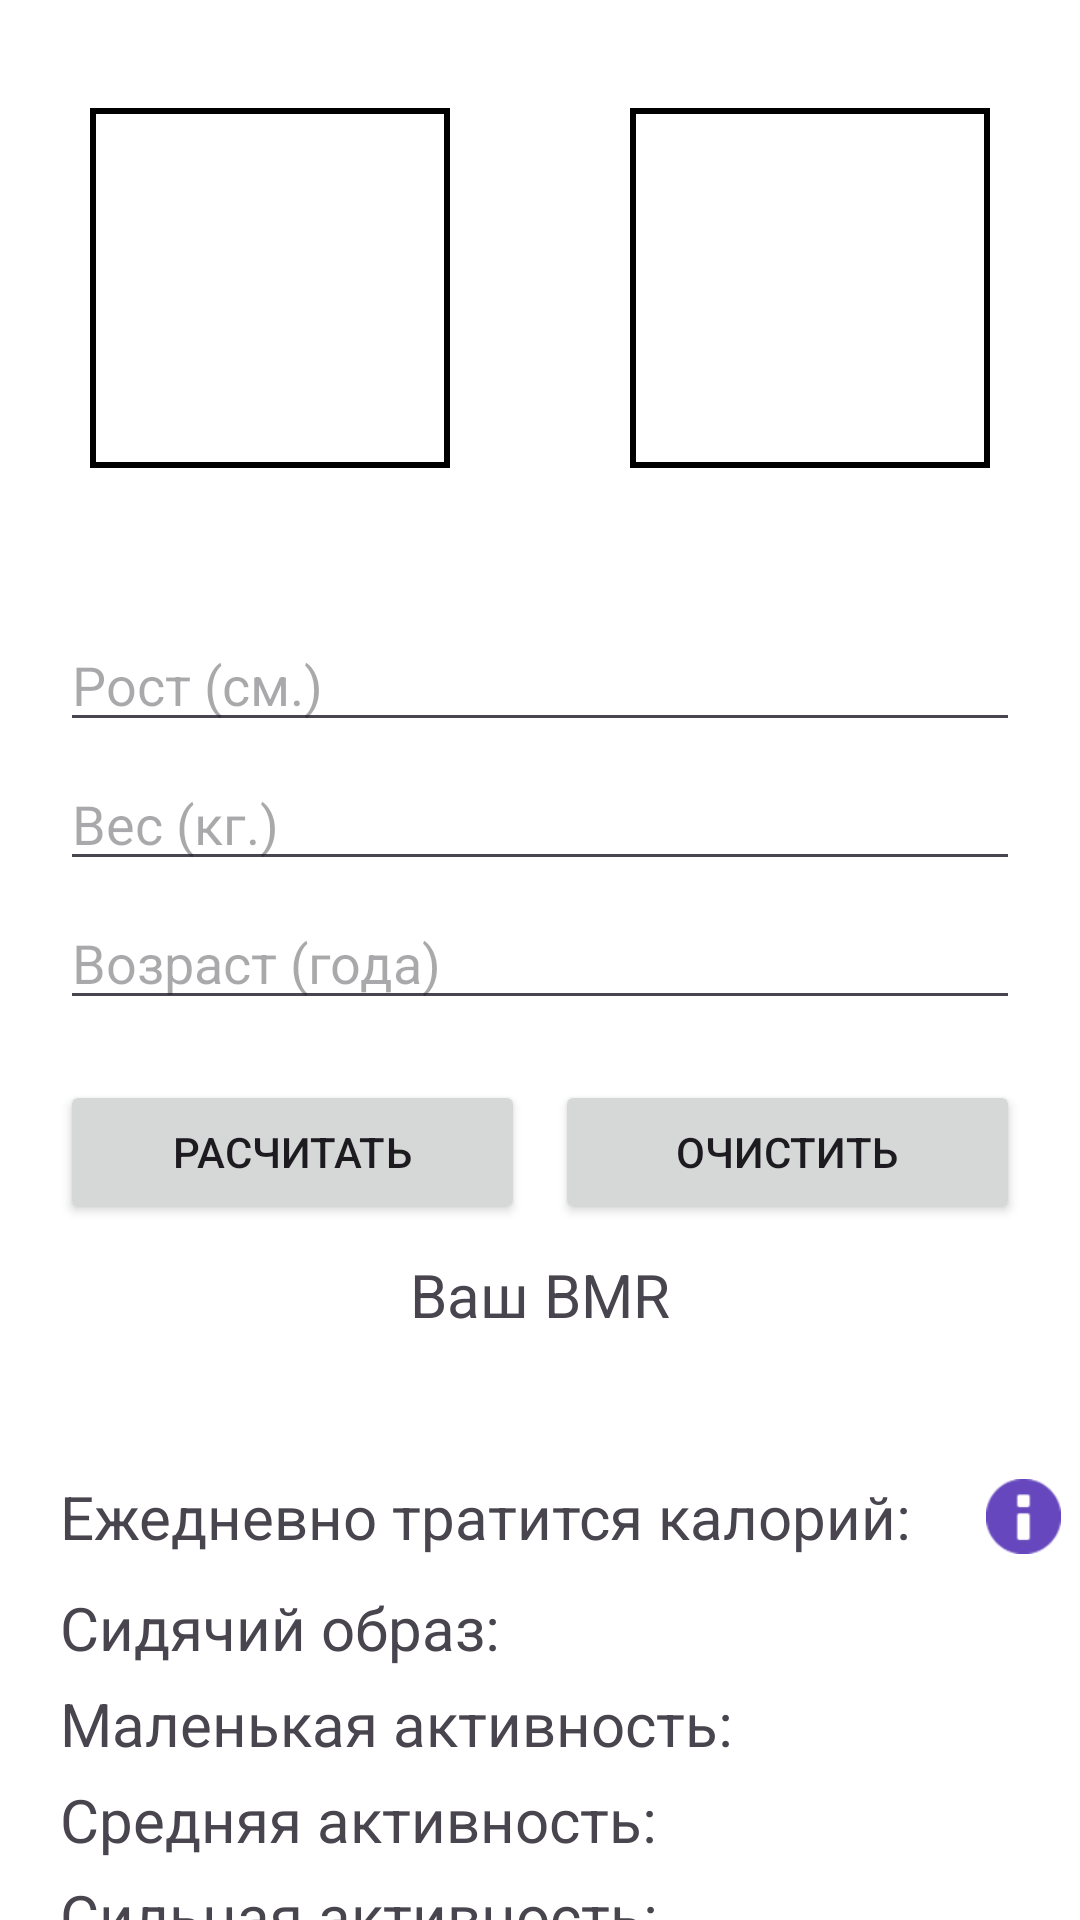

Icons on this 1080w x 1920h Android screen, each with the point to tap as (x=x, y=y):
info: (x=1023, y=1516)
